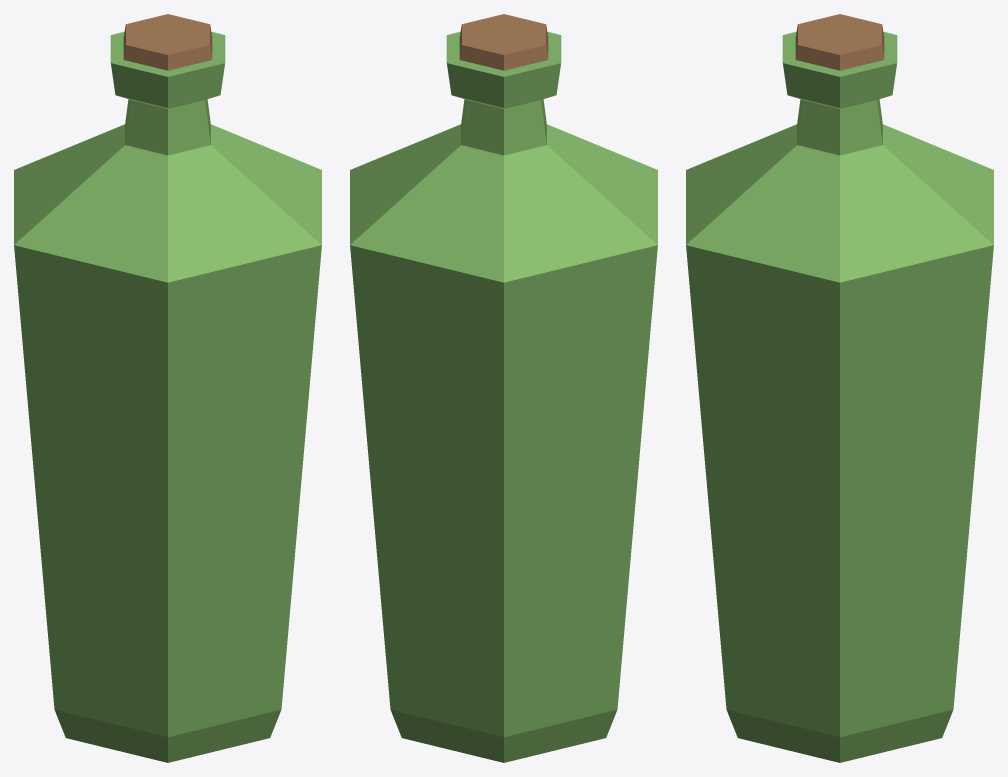
Rendered from Green_Potion_13.fbx.
3 renders of one model, left to right at view 1: azimuth 30°, elevation 25°; view 2: azimuth 150°, elevation 25°; view 3: azimuth 270°, elevation 25°, orthographic.
Visible parts, largest first — view 1: Green_Potion_13; view 2: Green_Potion_13; view 3: Green_Potion_13.
Part boxes in pixels (x1,y1,x2,y2): Green_Potion_13: (14, 14, 321, 762); Green_Potion_13: (350, 14, 657, 762); Green_Potion_13: (686, 14, 993, 762).
Bounding box in the file's own units: 17.9 × 37.69 × 15.5.
